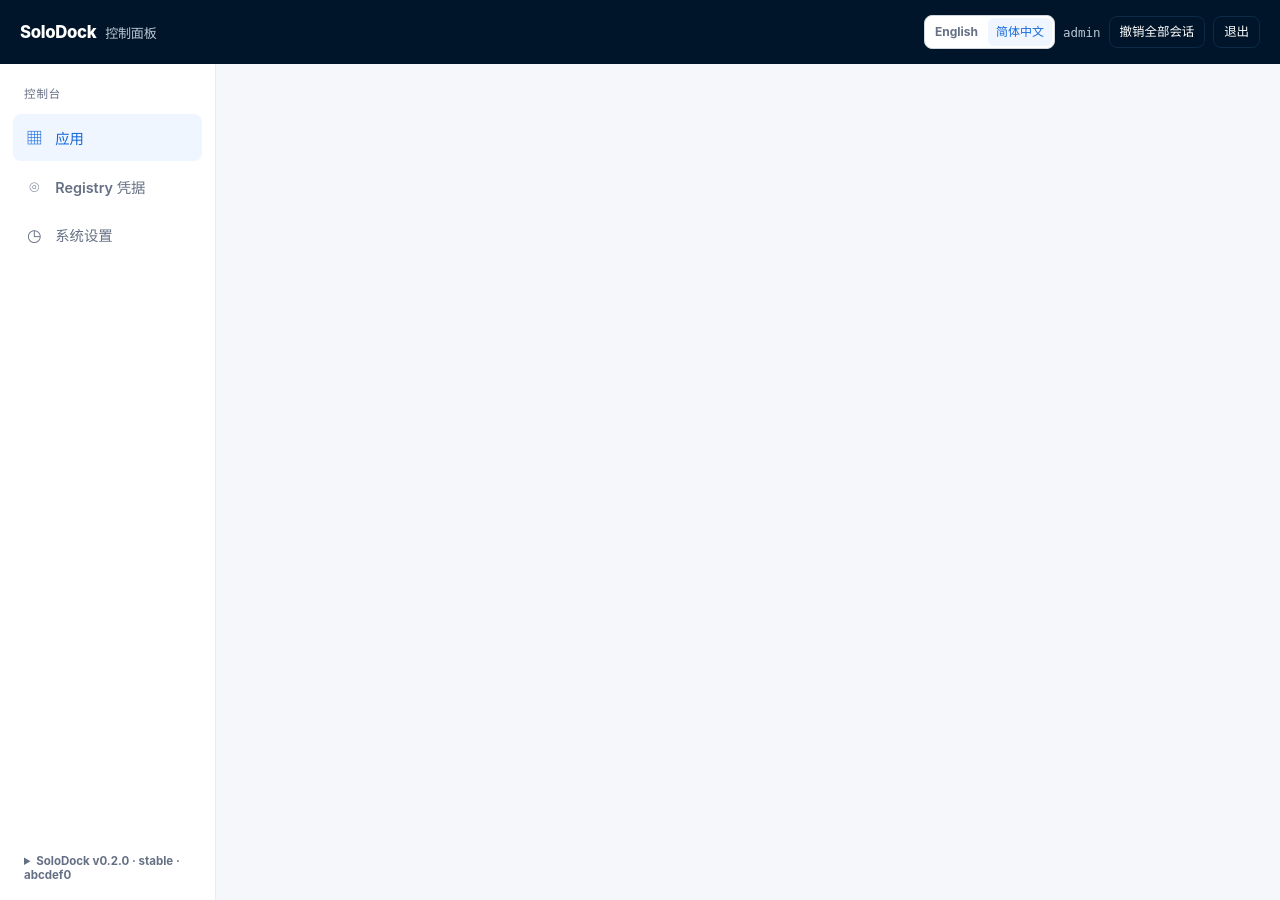
Test case: AppShell › shows authenticated installation identity with full verified details
Step 1. Click the button "English" → [956, 32], box [927,18,986,46]
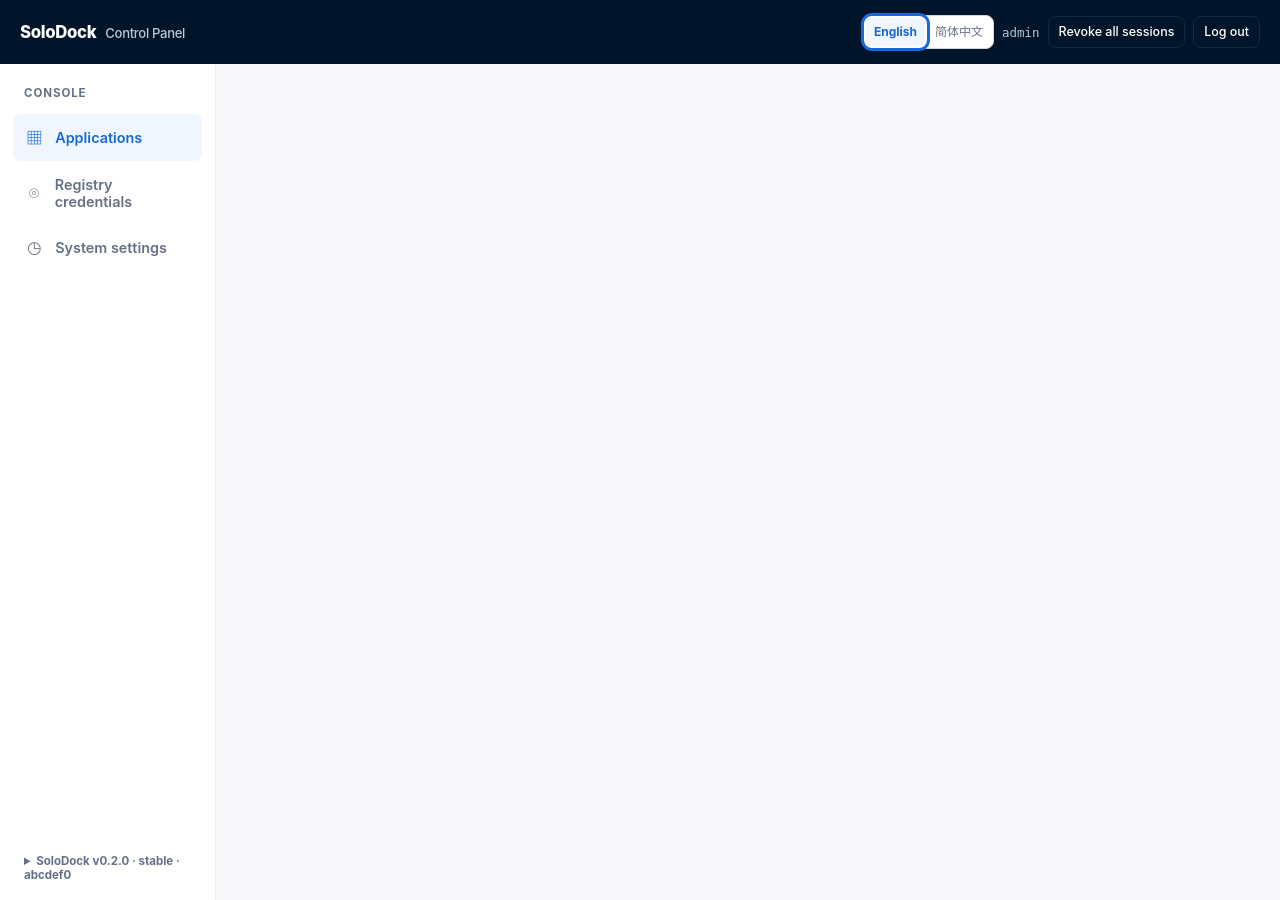
Step 2. Click the heading "SoloDock v0.2.0 · stable · abcdef0" → [108, 868], box [24,854,191,882]
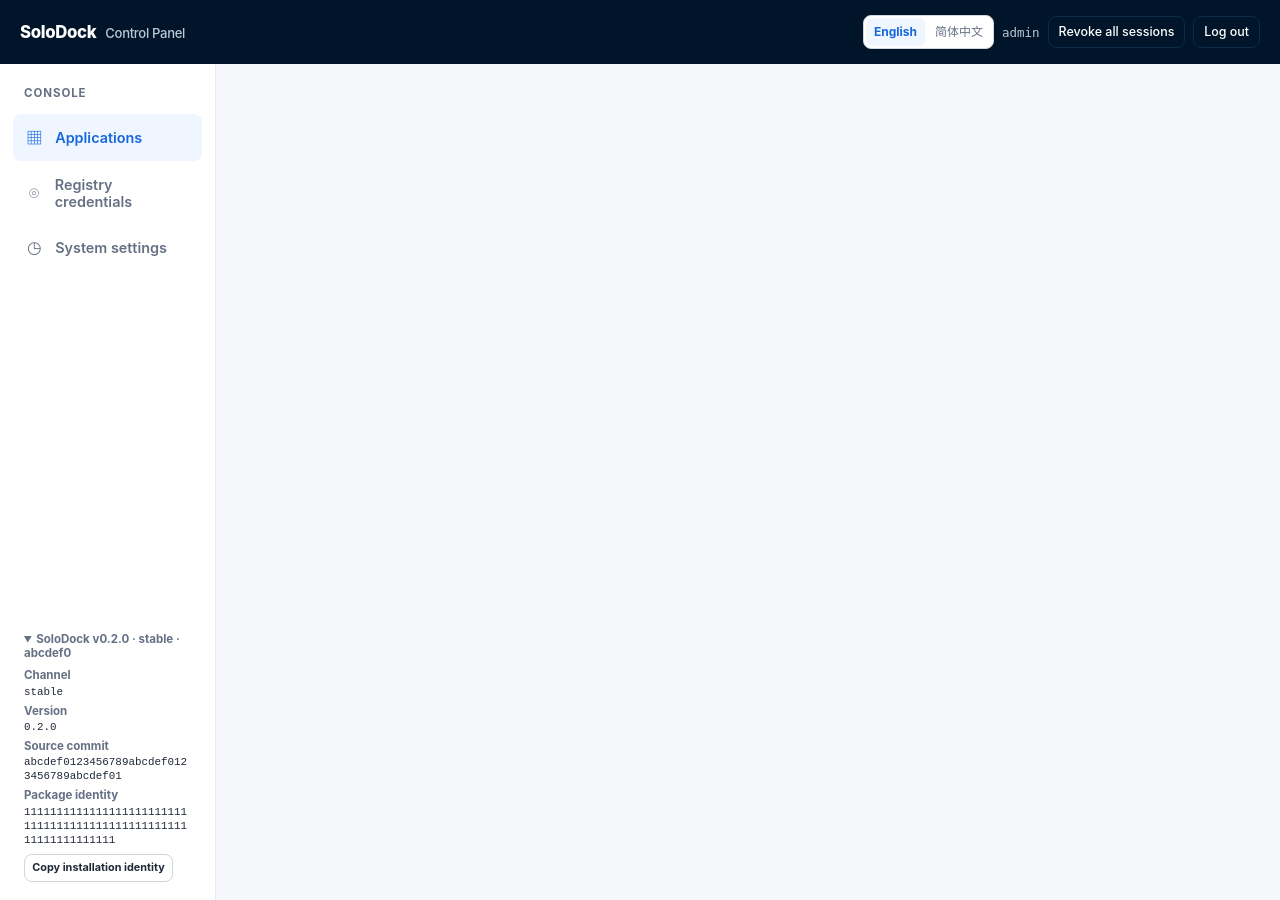
Expected: the text "abcdef0123456789abcdef0123456789abcdef01" is shown, [24,756,187,782]
Expected: the button "Copy installation identity" is shown, [24,854,173,882]
